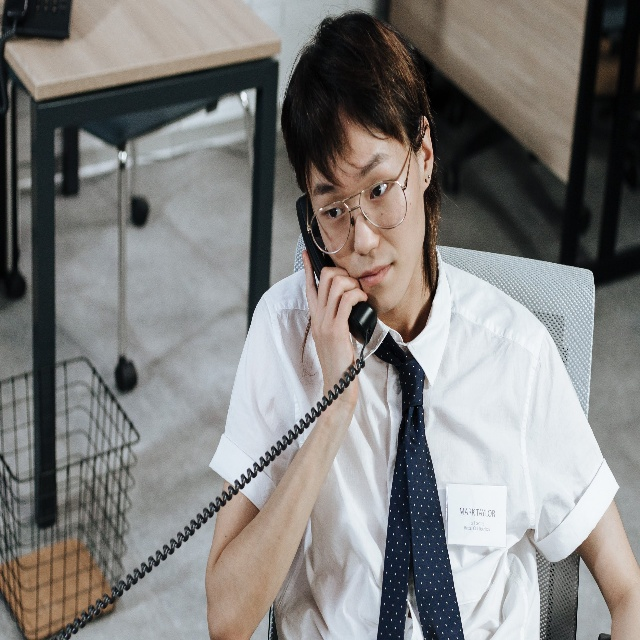Gafas: (306, 140, 415, 257)
Sin_guantes: (301, 248, 368, 411)
